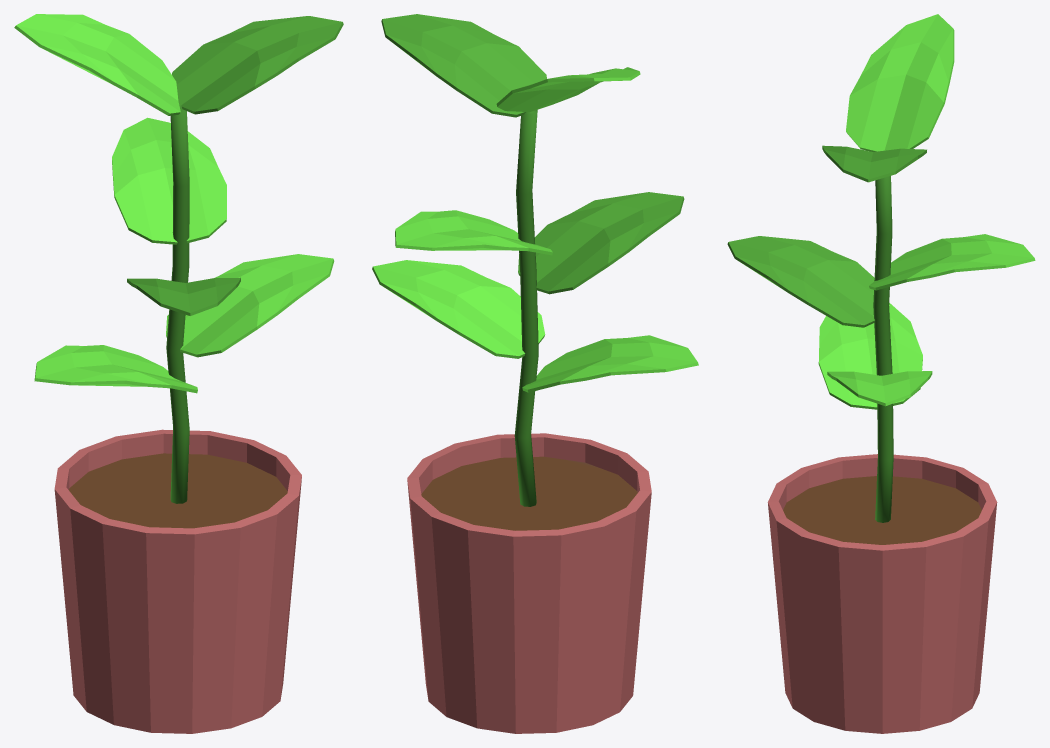
Rendered from Prop_Homeplant_05.fbx.
3 renders of one model, left to right at view 1: azimuth 30°, elevation 25°; view 2: azimuth 150°, elevation 25°; view 3: azimuth 270°, elevation 25°, orthographic. The views are drawn at different scales.
Visible parts, largest first — view 1: Prop_Homeplant_05; view 2: Prop_Homeplant_05; view 3: Prop_Homeplant_05.
Part boxes in pixels (x1,y1,x2,y2): Prop_Homeplant_05: (14, 14, 343, 733); Prop_Homeplant_05: (372, 14, 698, 733); Prop_Homeplant_05: (727, 14, 1035, 733).
Size of the model in its own units: 30.52 by 62.38 by 28.1.
